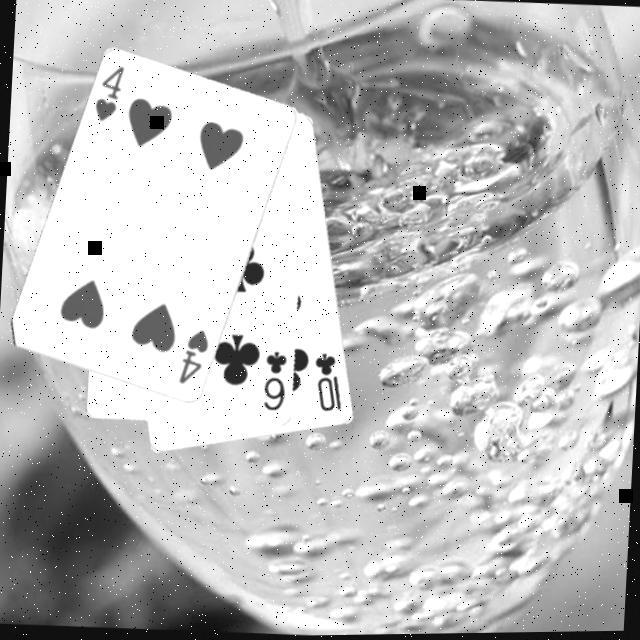10C: (308, 349, 348, 416)
4H: (90, 61, 127, 125), (175, 326, 212, 388)
6C: (260, 348, 290, 414)
